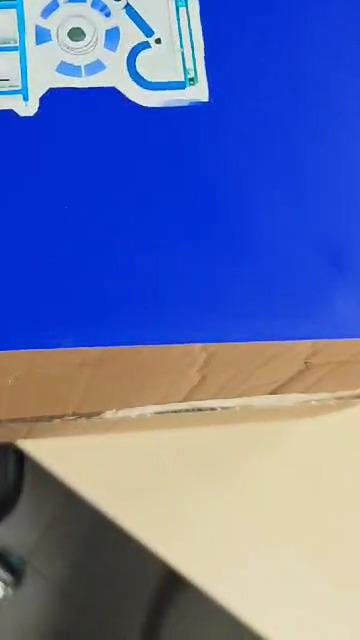B_R1: (0, 0, 356, 133)
